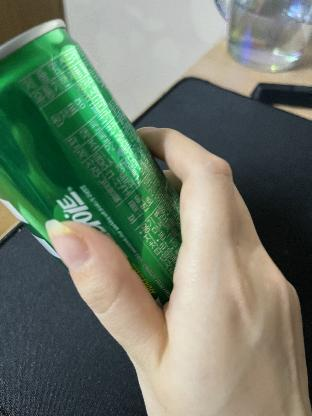Can: (0, 16, 182, 310)
